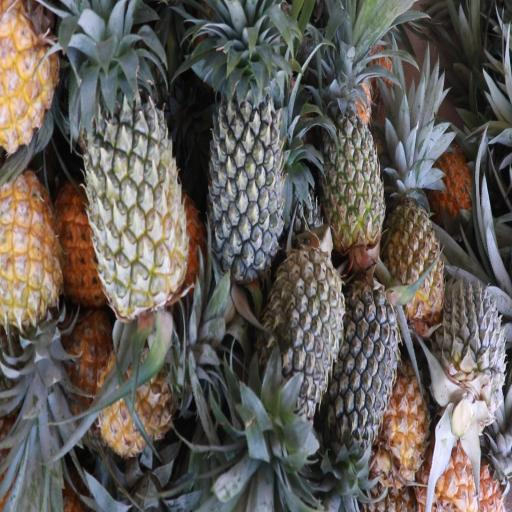------------------------------: (76, 67, 189, 307), (324, 102, 384, 248)
Pineapple - v8 v1: (96, 333, 209, 453), (0, 170, 64, 362), (0, 2, 62, 156), (387, 160, 444, 311), (380, 363, 442, 482)
